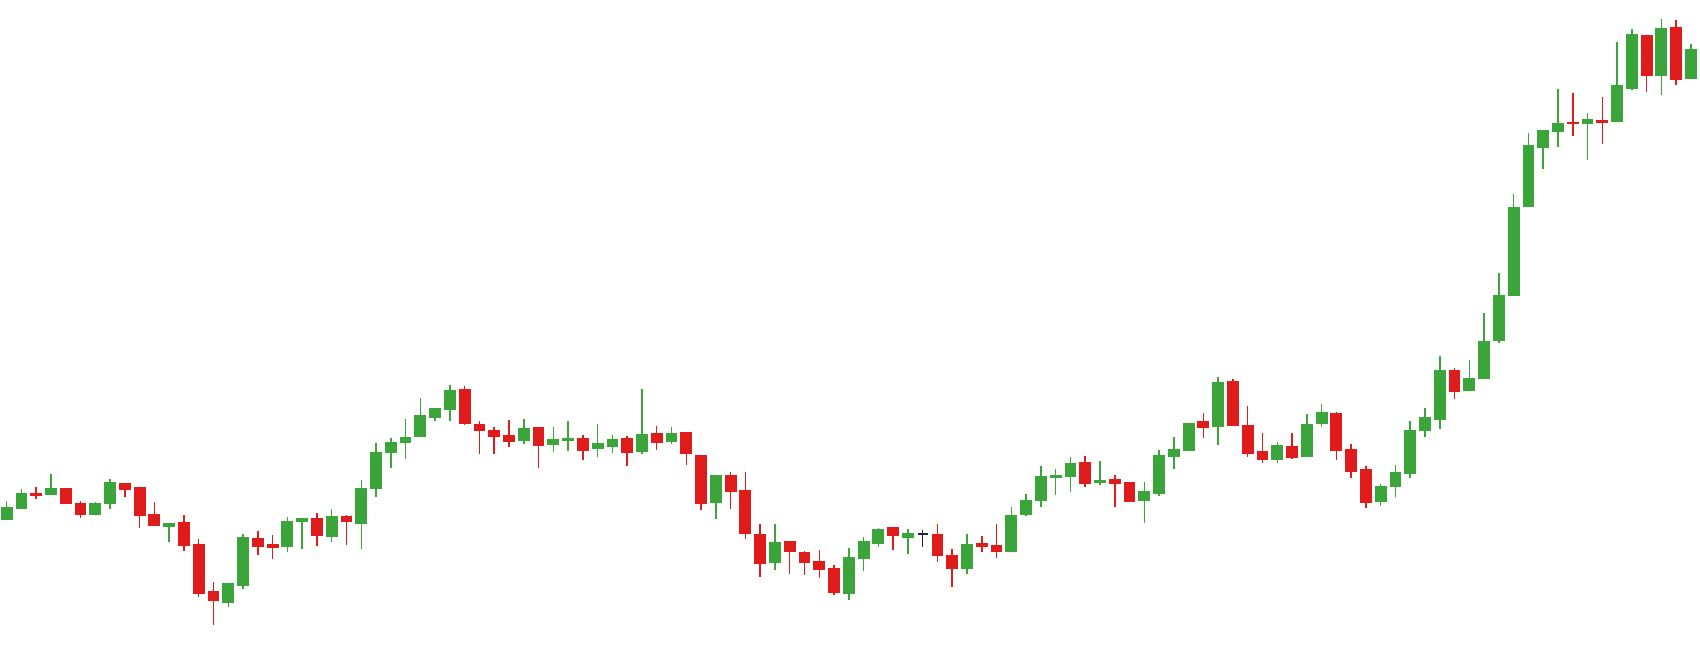buy: (1258, 421, 1418, 512)
